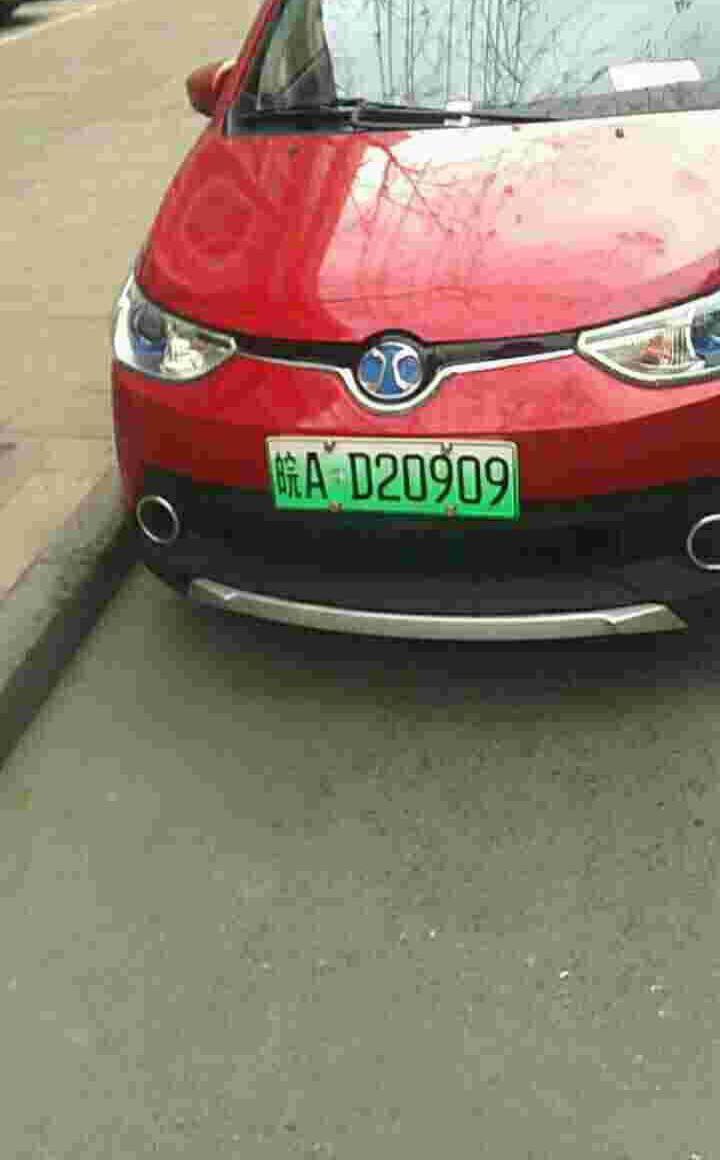car_id: (264, 436, 516, 518)
